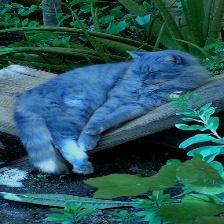kedo: (14, 50, 209, 173)
